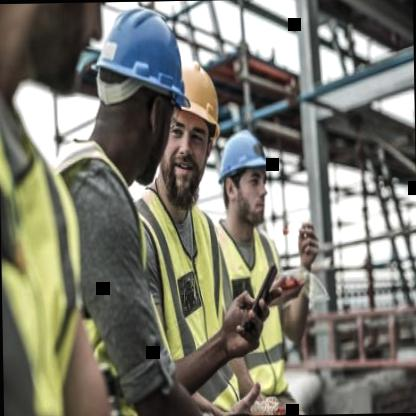helmet: (78, 3, 196, 187), (154, 59, 221, 209), (210, 126, 270, 230)
